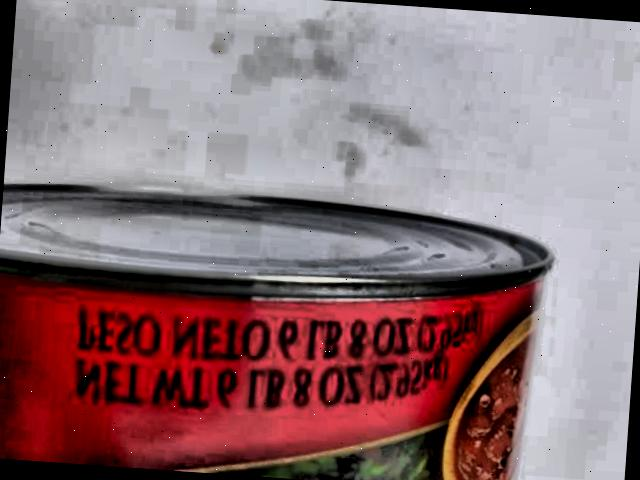Almennt: (0, 141, 572, 480)
